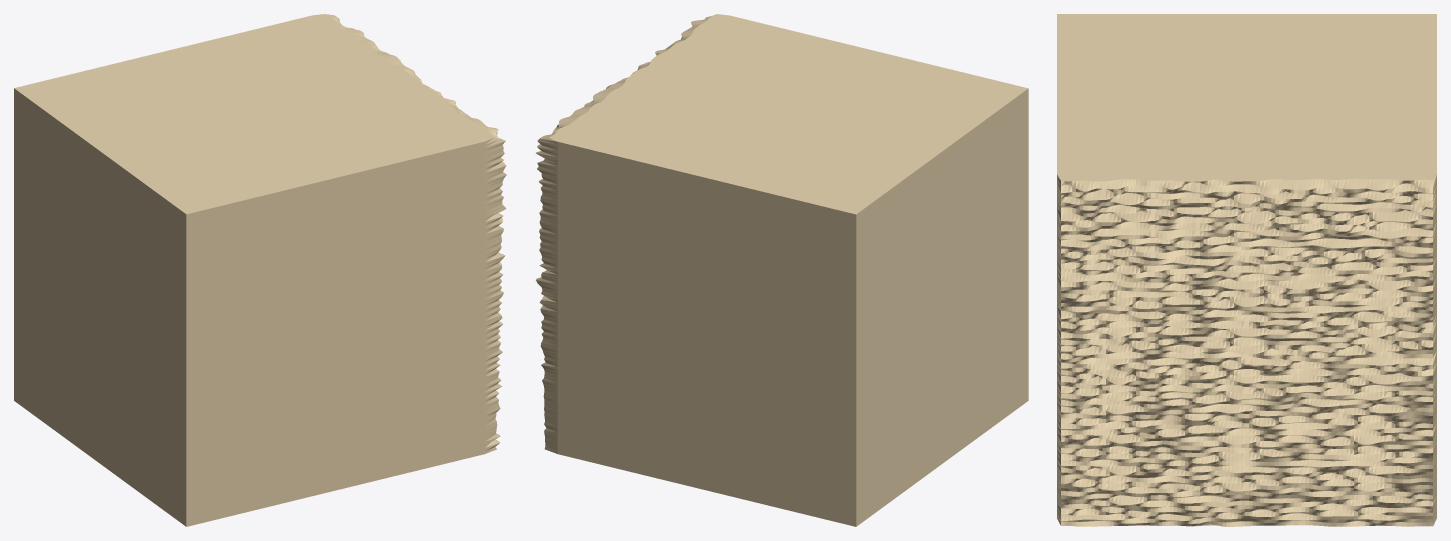
Rendered from lat6.png.obj.
The picture shows the model from 3 angles, left to right: view 1: azimuth 30°, elevation 25°; view 2: azimuth 150°, elevation 25°; view 3: azimuth 270°, elevation 25°; orthographic projection. The views are drawn at different scales.
Visible parts, largest first — view 1: Cube; view 2: Cube; view 3: Cube.
Part boxes in pixels (bbox=[...]): Cube: bbox=[14, 14, 506, 526]; Cube: bbox=[535, 14, 1028, 526]; Cube: bbox=[1057, 14, 1436, 526].
Bounding box in the file's own units: 1.1 × 1 × 1.
